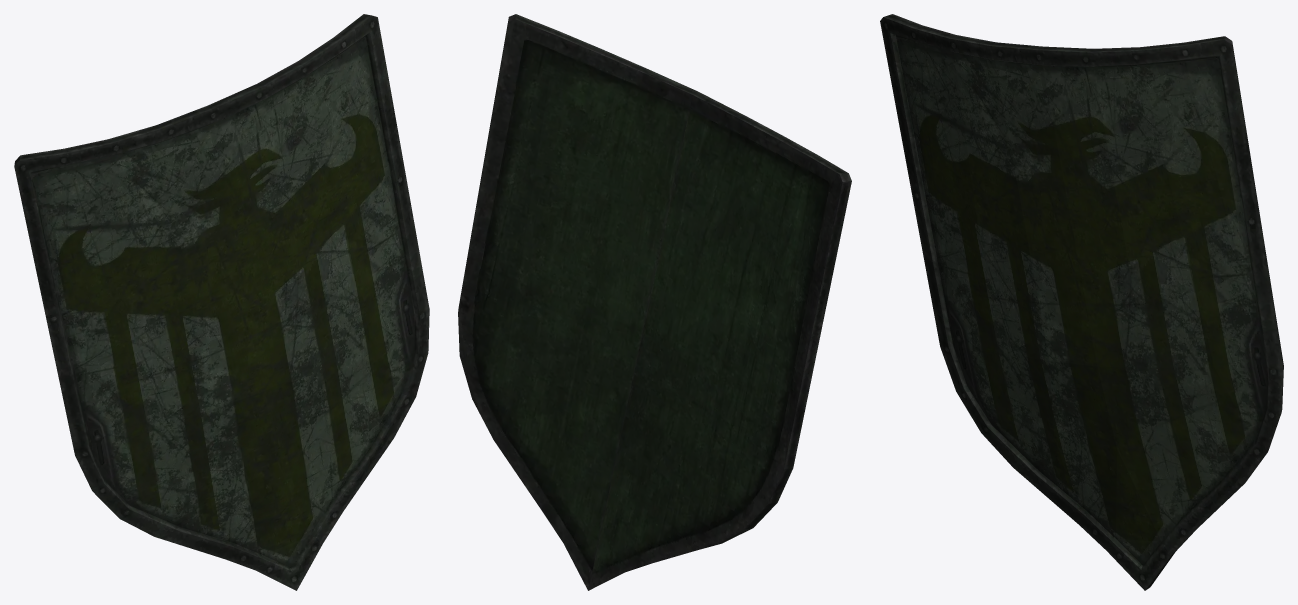
File: ITSH_SHIELD_A_PALADIN_OLD.glb
3 views of the same model, side by side, from view 1: azimuth 30°, elevation 25°; view 2: azimuth 150°, elevation 25°; view 3: azimuth 330°, elevation 25° (orthographic). The views are drawn at different scales.
Visible parts, largest first — view 1: ITSH_SHIELD_A_PALADIN_OLD; view 2: ITSH_SHIELD_A_PALADIN_OLD; view 3: ITSH_SHIELD_A_PALADIN_OLD.
Boxes of the visible parts, box(x1,y1,x2,y2) form: ITSH_SHIELD_A_PALADIN_OLD: box(14, 14, 429, 590); ITSH_SHIELD_A_PALADIN_OLD: box(458, 14, 851, 590); ITSH_SHIELD_A_PALADIN_OLD: box(880, 14, 1283, 590).
Bounding box in the file's own units: 0.7463 × 0.9801 × 0.0848.
Materials: 1 (1 with a texture image).
